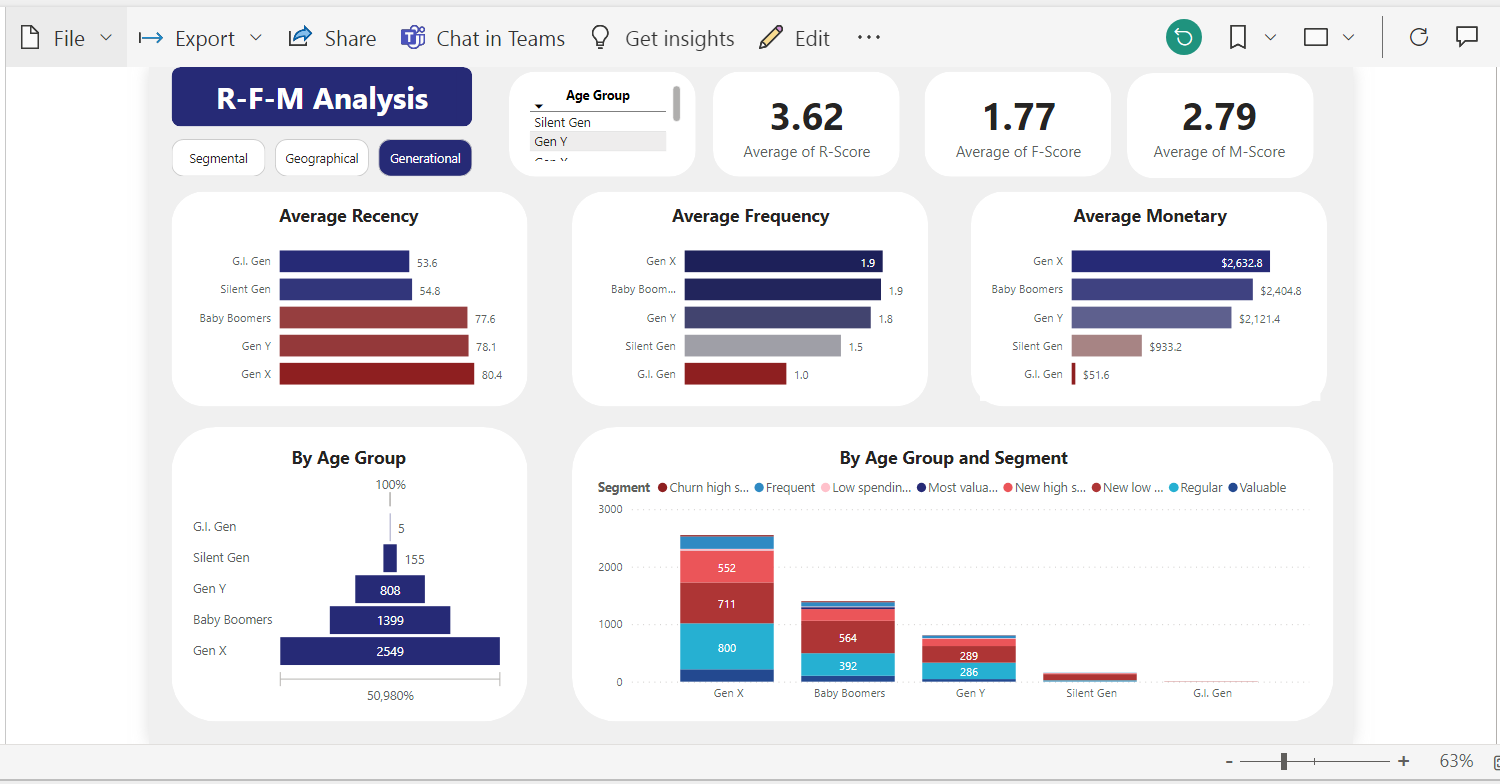

This screenshot's page, from the dashboard's own definition file:
{"tool":"powerbi","page":{"name":"Generational","canvas":[1280,720],"ordinal":2},"visuals":[{"type":"shape","box":[450,383.3,810,313.3],"z":0},{"type":"shape","box":[23.3,383.3,378.3,313.3],"z":1000},{"type":"shape","box":[875,131.7,378.3,228.3],"z":2000},{"type":"shape","box":[450,131.7,378.3,228.3],"z":3000},{"type":"shape","box":[23.3,131.7,378.3,228.3],"z":4000},{"type":"shape","box":[23.3,0,320,63.3],"z":5000},{"type":"shape","box":[1040,6.7,198.3,111.7],"z":6000},{"type":"shape","box":[825,5,198.3,111.7],"z":7000},{"type":"shape","box":[600,5,198.3,111.7],"z":8000},{"type":"clusteredBarChart","title":"Average Frequency","fields":{"Y":["Avg(DimCustomer.Total Frequency)"],"Category":["DimCustomer.Age Group"]},"box":[471.7,145,335,210],"z":9000},{"type":"clusteredBarChart","title":"Average Recency","fields":{"Y":["Avg(DimCustomer.Total Recency)"],"Category":["DimCustomer.Age Group"]},"box":[41.7,145,341.7,210],"z":10000},{"type":"clusteredBarChart","title":"Average Monetary","fields":{"Y":["Avg(DimCustomer.Total Monetary)"],"Category":["DimCustomer.Age Group"]},"box":[883.3,145,361.7,210],"z":11000},{"type":"card","fields":{"Values":["Avg(DimCustomer.Score Frequency)"]},"box":[835,18.3,180,86.7],"z":12000},{"type":"card","fields":{"Values":["Avg(DimCustomer.Score Monetary)"]},"box":[1048.3,18.3,180,86.7],"z":13000},{"type":"card","fields":{"Values":["Avg(DimCustomer.Score Recency)"]},"box":[610,18.3,180,86.7],"z":14000},{"type":"funnel","title":"By Age Group","fields":{"Category":["DimCustomer.Age Group"],"Y":["Table.Count of Customer"]},"box":[41.7,401.7,341.7,281.7],"z":15000},{"type":"columnChart","title":"By Age Group and Segment","fields":{"Category":["DimCustomer.Age Group"],"Series":["DimSegment.Segment"],"Y":["Table.Count of Customer"]},"box":[471.7,401.7,766.7,281.7],"z":16000},{"type":"shape","box":[383.3,5,198.3,111.7],"z":17000},{"type":"tableEx","fields":{"Values":["DimCustomer.Age Group"]},"box":[398.3,15,171.7,90],"z":18000},{"type":"pageNavigator","box":[23.3,76.7,320,40],"z":19000},{"type":"textbox","box":[41.7,5,285,55],"z":20000}]}

Visuals, with their boxes on the page's 1280x720 design canvas (x1, y1, x2, y2). These are canvas units, not pixel positions in the 1500x784 screenshot, which may show the page scaled, cropped or inside an application window:
shape: region(450, 383, 1260, 697)
shape: region(23, 383, 402, 697)
shape: region(875, 132, 1253, 360)
shape: region(450, 132, 828, 360)
shape: region(23, 132, 402, 360)
shape: region(23, 0, 343, 63)
shape: region(1040, 7, 1238, 118)
shape: region(825, 5, 1023, 117)
shape: region(600, 5, 798, 117)
"Average Frequency" clusteredBarChart: region(472, 145, 807, 355)
"Average Recency" clusteredBarChart: region(42, 145, 383, 355)
"Average Monetary" clusteredBarChart: region(883, 145, 1245, 355)
card - Avg(DimCustomer.Score Frequency): region(835, 18, 1015, 105)
card - Avg(DimCustomer.Score Monetary): region(1048, 18, 1228, 105)
card - Avg(DimCustomer.Score Recency): region(610, 18, 790, 105)
"By Age Group" funnel: region(42, 402, 383, 683)
"By Age Group and Segment" columnChart: region(472, 402, 1238, 683)
shape: region(383, 5, 582, 117)
tableEx - DimCustomer.Age Group: region(398, 15, 570, 105)
pageNavigator: region(23, 77, 343, 117)
textbox: region(42, 5, 327, 60)
